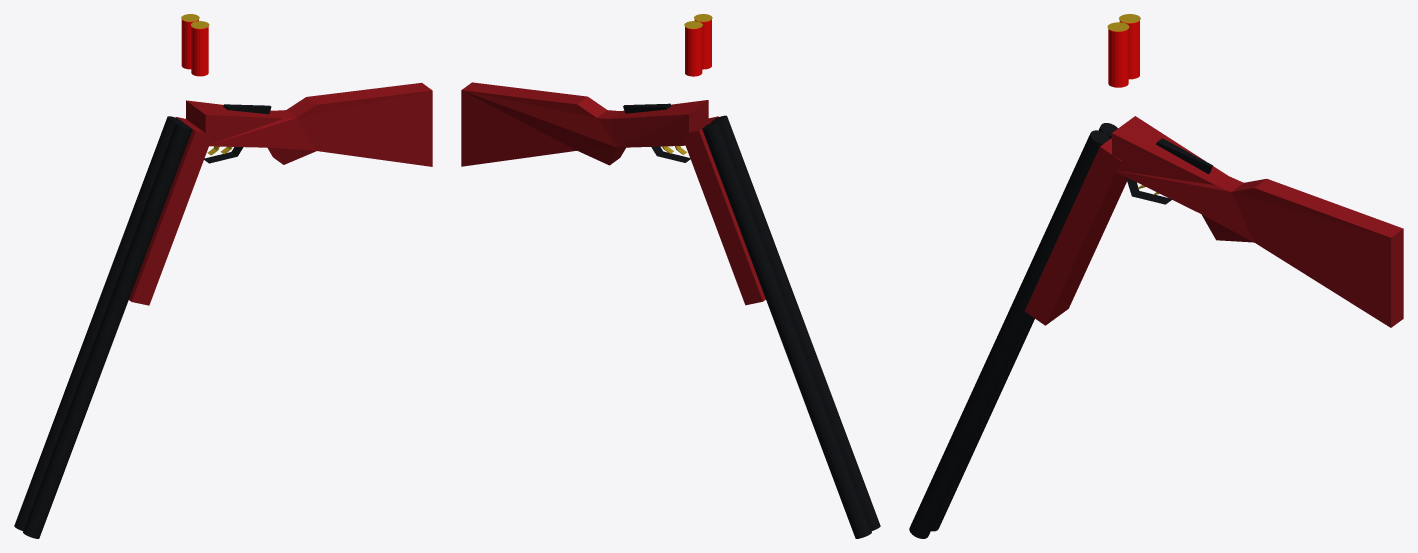
Rendered from double-barreled-shotgun0015.obj.
3 renders of one model, left to right at view 1: azimuth 30°, elevation 25°; view 2: azimuth 150°, elevation 25°; view 3: azimuth 330°, elevation 25°, orthographic. The views are drawn at different scales.
Parts seen in each view (by area): view 1: rearStock, leftBarrel, rightBarrel, foreGrip, shellPlastic, shellPlastic2; view 2: rearStock, rightBarrel, leftBarrel, foreGrip, shellPlastic2; view 3: rearStock, leftBarrel, foreGrip, rightBarrel, shellPlastic, shellPlastic2, topLatch.
Part boxes in pixels (bbox=[...]): rearStock: bbox=[186, 82, 432, 166]; leftBarrel: bbox=[23, 122, 192, 538]; rightBarrel: bbox=[14, 116, 183, 530]; foreGrip: bbox=[129, 117, 212, 305]; shellPlastic: bbox=[191, 26, 208, 76]; shellPlastic2: bbox=[181, 19, 198, 69]; rearStock: bbox=[461, 82, 708, 166]; rightBarrel: bbox=[702, 122, 871, 538]; leftBarrel: bbox=[710, 115, 880, 530]; foreGrip: bbox=[681, 116, 765, 305]; shellPlastic2: bbox=[685, 27, 702, 76]; rearStock: bbox=[1112, 116, 1403, 327]; leftBarrel: bbox=[909, 130, 1109, 538]; foreGrip: bbox=[1024, 138, 1126, 325]; rightBarrel: bbox=[931, 123, 1117, 531]; shellPlastic: bbox=[1108, 29, 1128, 87]; shellPlastic2: bbox=[1119, 21, 1139, 79]; topLatch: bbox=[1156, 138, 1212, 173].
Bounding box in the file's own units: 2.44 × 2.7 × 0.2057.
